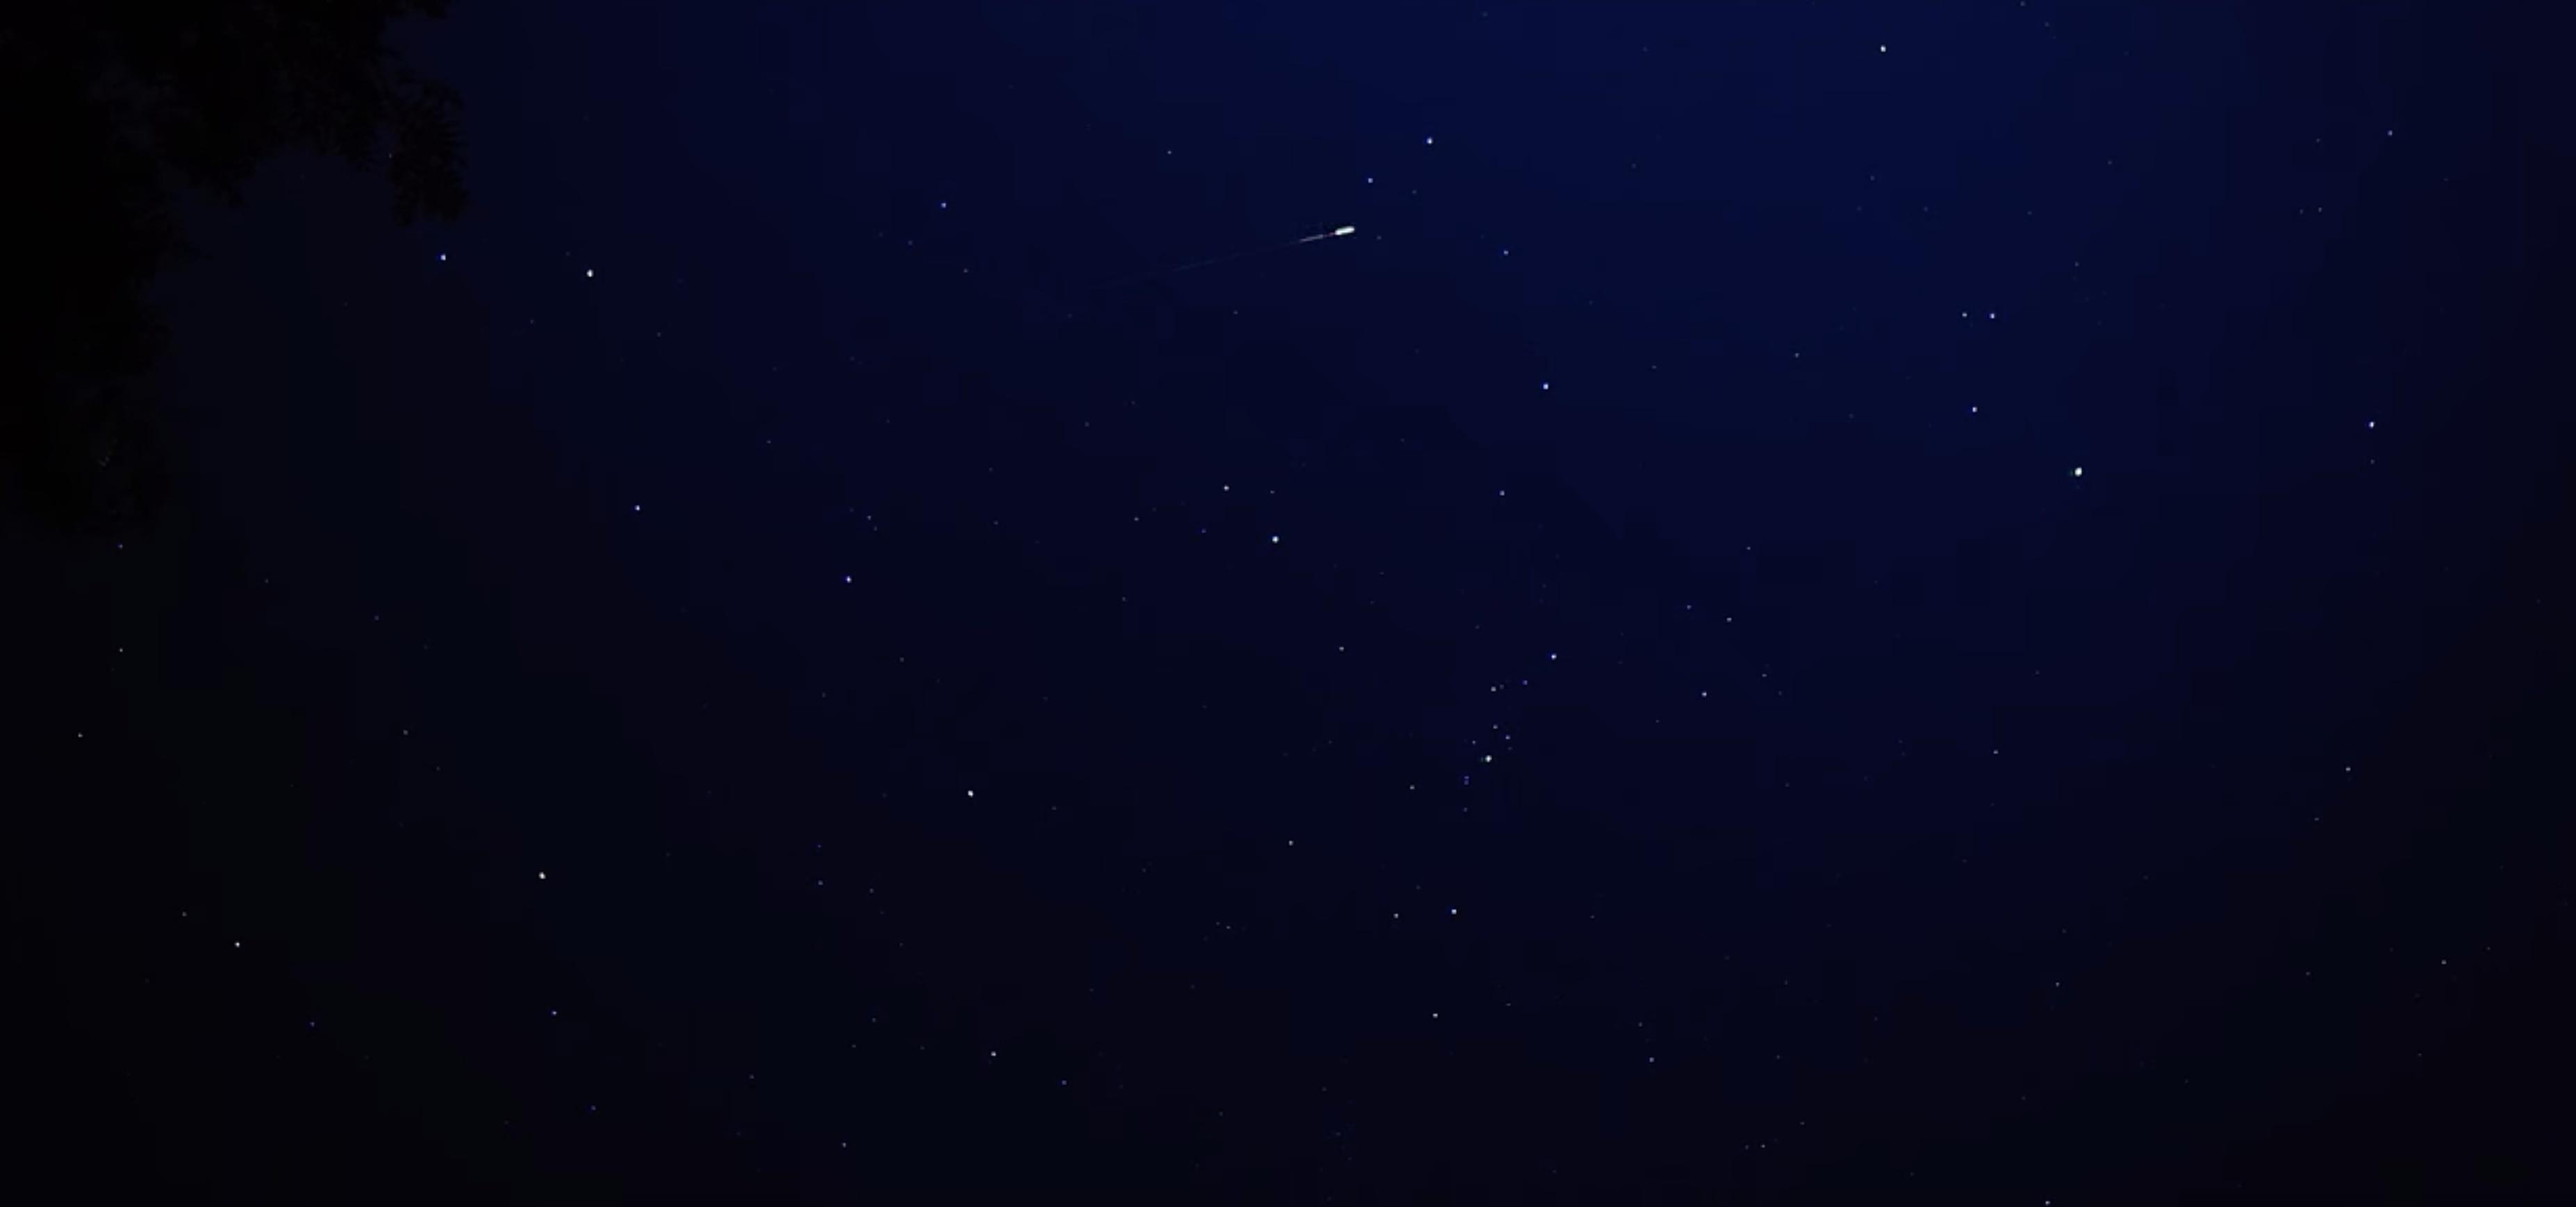meteorite: (1260, 218, 1403, 251)
